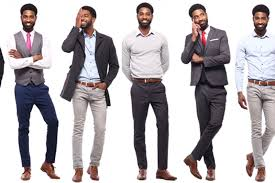F_M_suit jacket: (58, 25, 120, 109), (178, 25, 235, 89)
F_belt: (71, 75, 106, 92), (130, 75, 166, 88), (247, 77, 275, 89)
F_dress pants: (127, 83, 175, 171), (188, 81, 225, 171)
